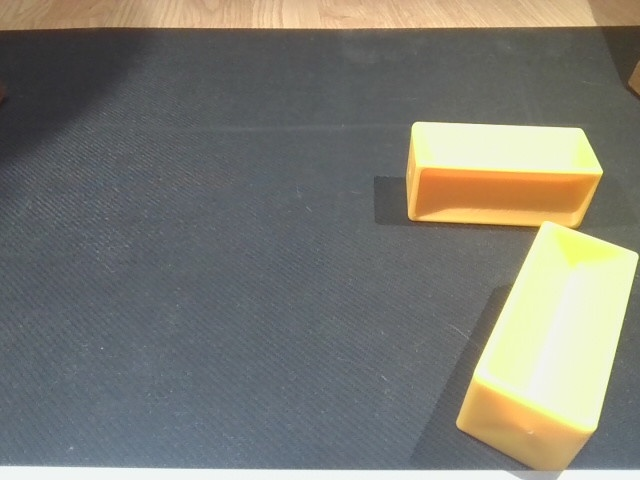YellowSample: (459, 217, 640, 474), (399, 112, 602, 236)
